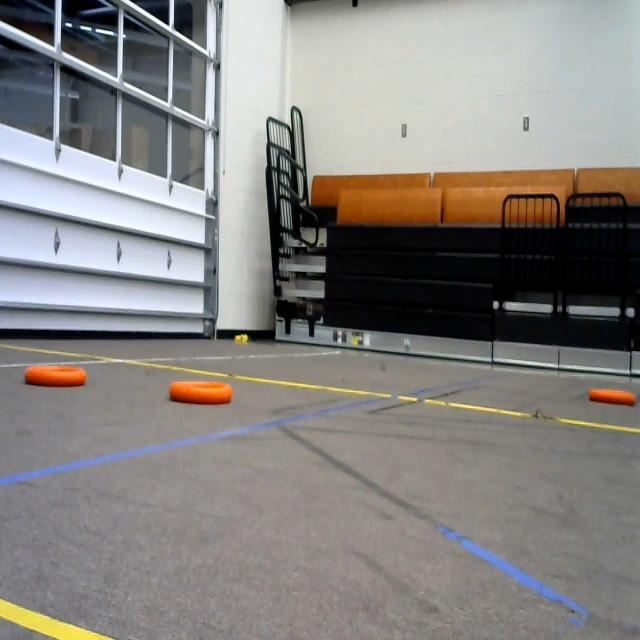note: (165, 376, 242, 416), (20, 359, 99, 397), (586, 379, 638, 410)
